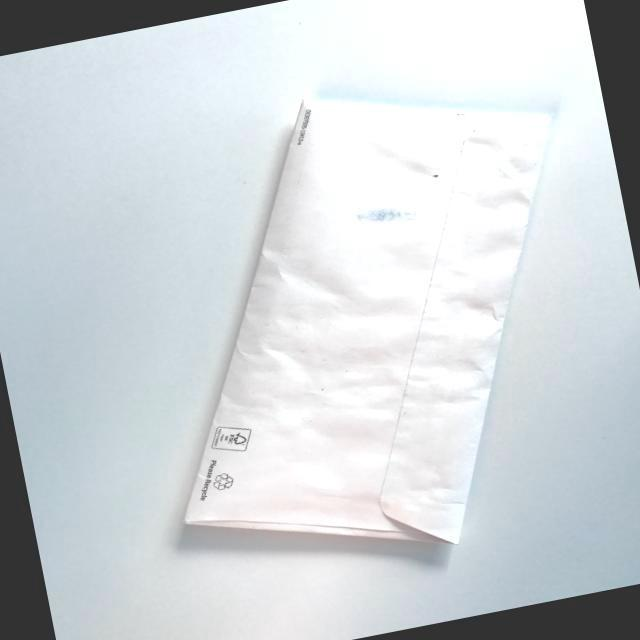paper: (101, 50, 630, 600)
